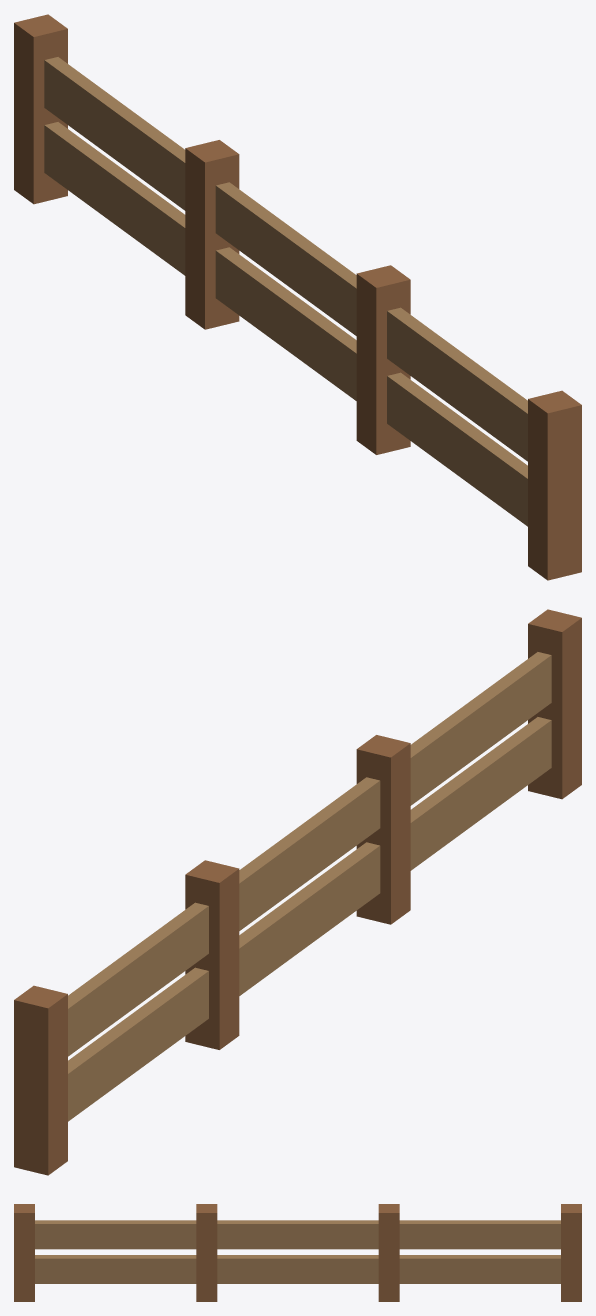
File: Fence_04.fbx
The picture shows the model from 3 angles, top to bottom: view 1: azimuth 30°, elevation 25°; view 2: azimuth 150°, elevation 25°; view 3: azimuth 270°, elevation 25°; orthographic projection. The views are drawn at different scales.
Visible parts, largest first — view 1: Fence_04; view 2: Fence_04; view 3: Fence_04.
Boxes of the visible parts, left/top/right/bottom form: Fence_04: left=14, top=14, right=581, bottom=580; Fence_04: left=14, top=609, right=581, bottom=1175; Fence_04: left=14, top=1204, right=581, bottom=1301.
Bounding box in the file's own units: 0.75 × 3.5 × 20.25.
